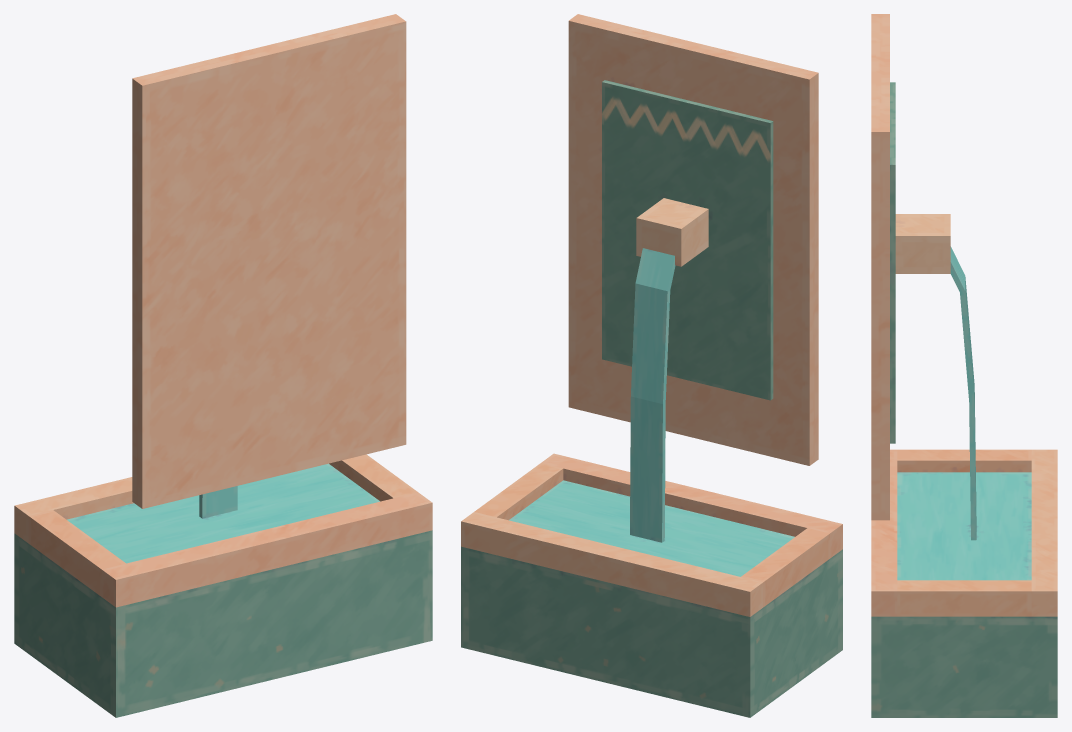
File: spout_low.fbx
3 views of the same model, side by side, from view 1: azimuth 30°, elevation 25°; view 2: azimuth 150°, elevation 25°; view 3: azimuth 270°, elevation 25° (orthographic). The views are drawn at different scales.
Parts seen in each view (by area): view 1: spout; view 2: spout; view 3: spout.
Part boxes in pixels (bbox=[...]): spout: bbox=[14, 14, 432, 717]; spout: bbox=[461, 14, 842, 717]; spout: bbox=[871, 14, 1057, 717].
Size of the model in its own units: 3.6 by 6.8 by 2.
1 material, 1 textured.
